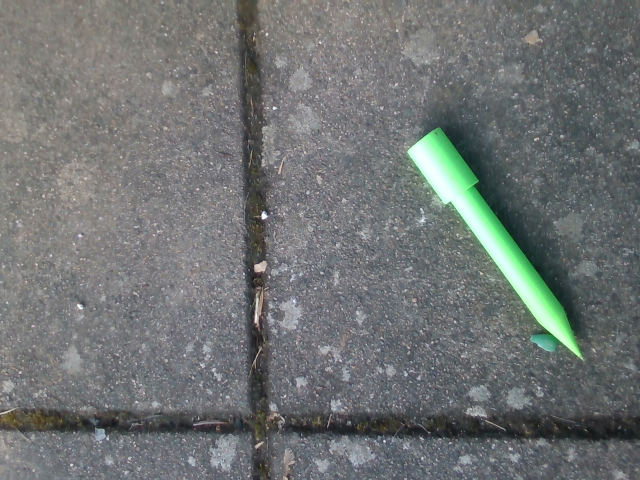Probe: (402, 119, 586, 364)
